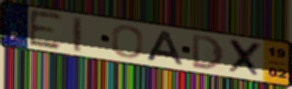A: (144, 29, 186, 67)
D: (190, 33, 226, 71)
E: (27, 9, 64, 52)
I: (71, 15, 83, 54)
O: (110, 24, 145, 60)
X: (226, 37, 265, 80)
